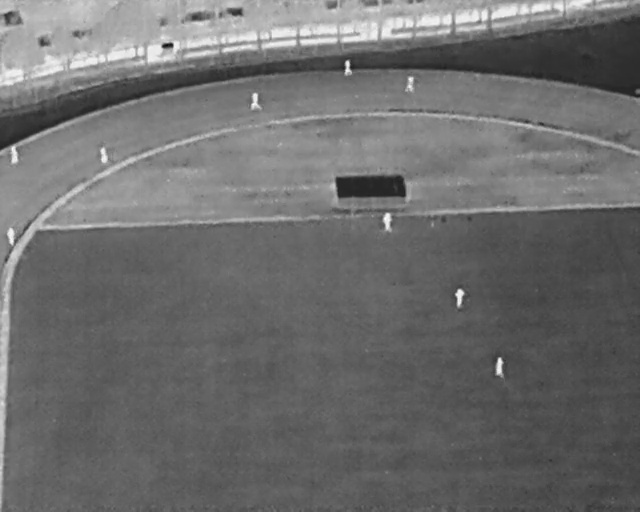Person: (251, 92, 262, 111), (455, 288, 465, 308), (383, 212, 393, 232), (495, 357, 504, 378), (10, 145, 19, 165), (7, 227, 15, 247), (405, 76, 414, 93), (100, 146, 108, 165), (344, 60, 352, 76)
